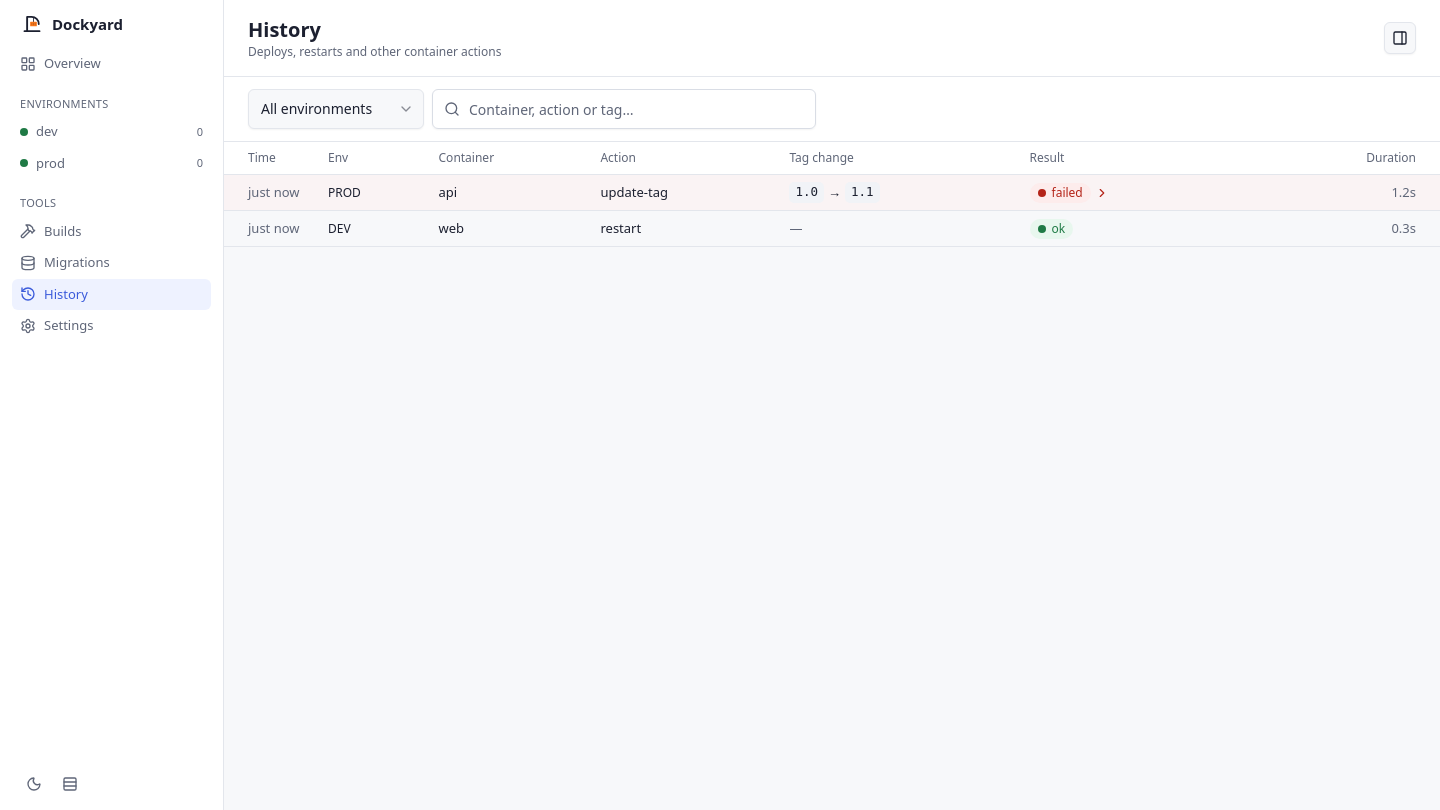
Scenario: HistoryPage › lists actions, filters by text and expands a failure
The width and height of the screenshot is (1440, 810).
Check: the number of rows is 3, box [224,142,1439,174]; [224,174,1439,210]; [224,210,1439,246]
Click the button with aria-label "failed — show error".
click(1069, 192)  # box [1030,182,1109,202]
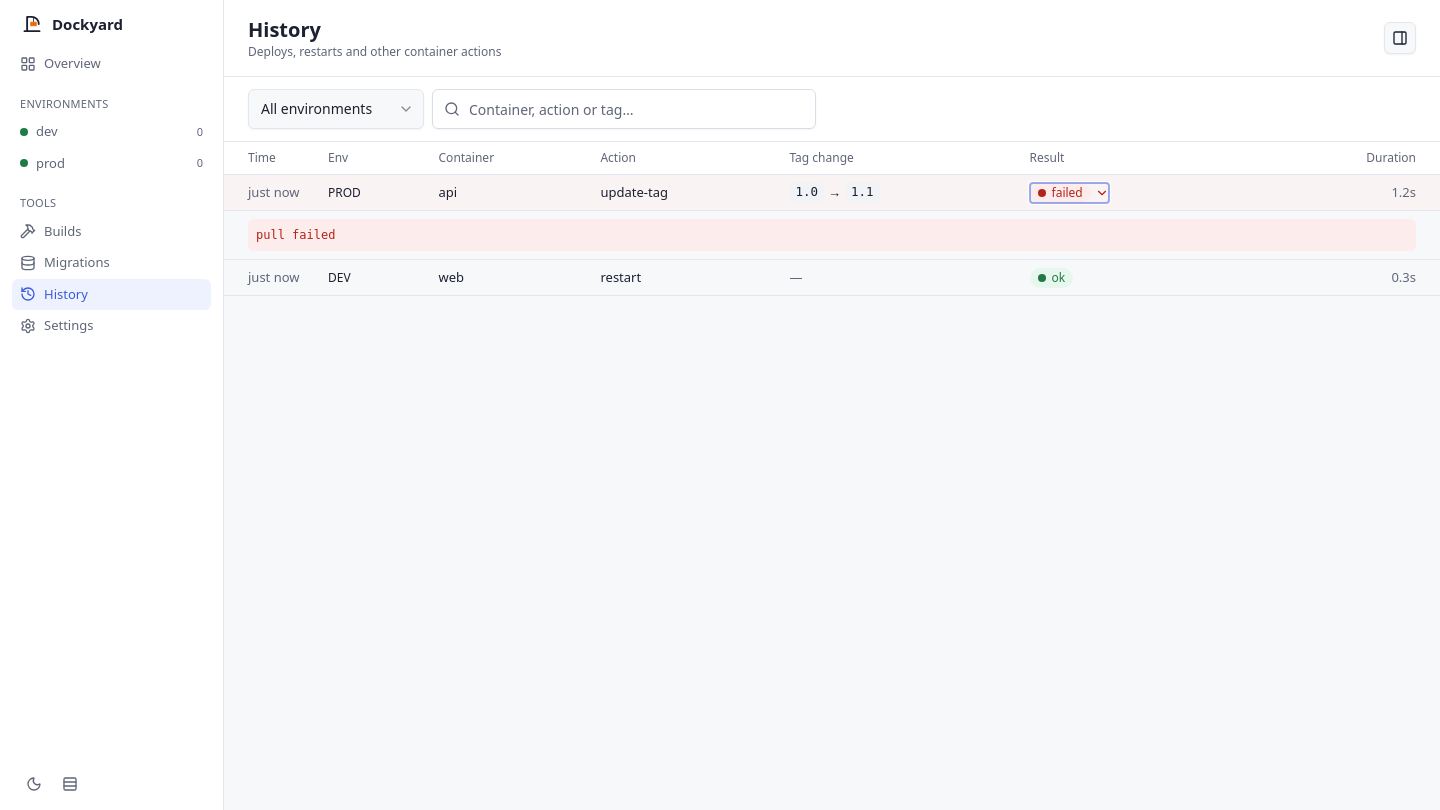
Check: the text "pull failed" is shown, box [248,219,1416,251]
Type "restart" into the search field named "Filter history".
click(624, 109); type("restart")  # box [432,89,816,129]
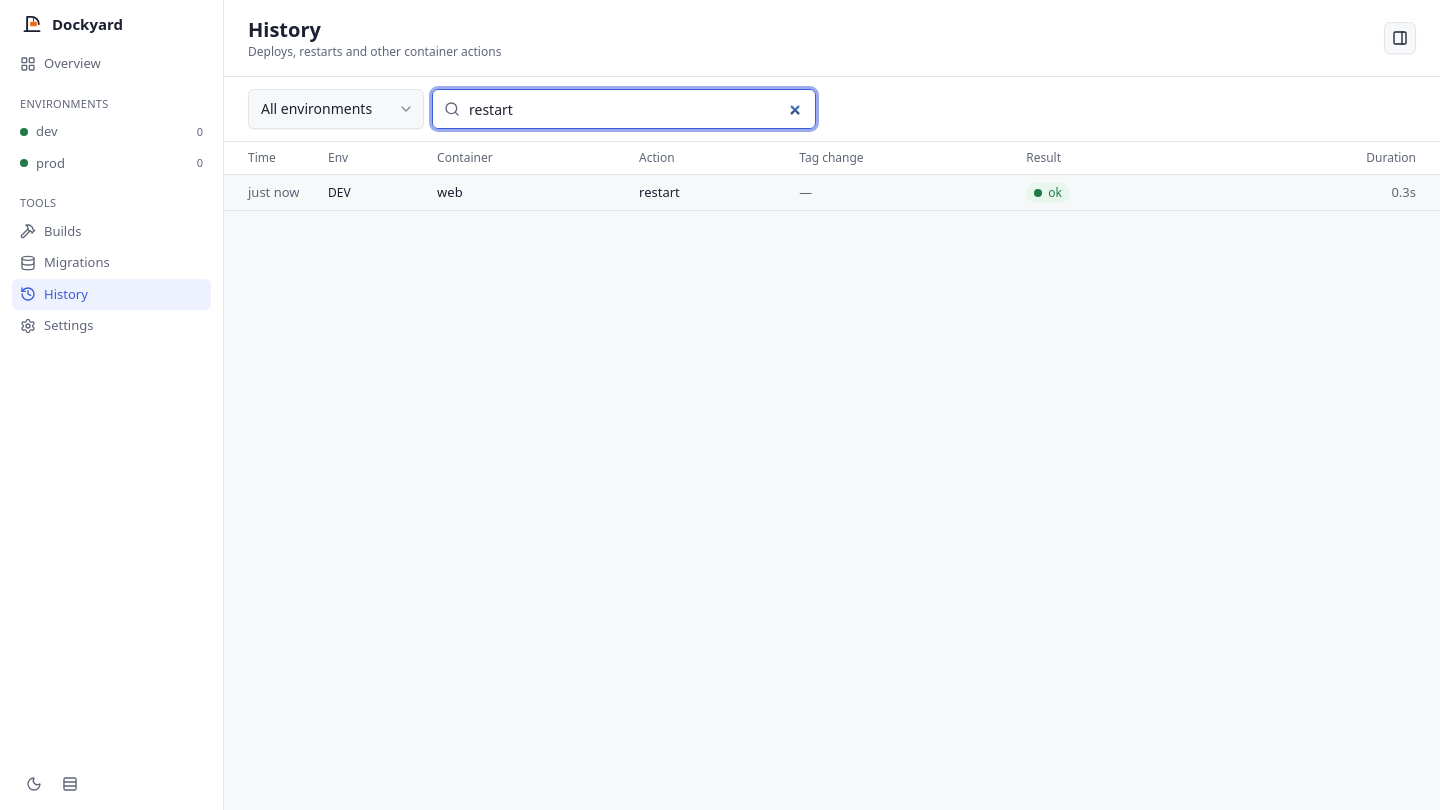
Check: the button "web" is shown, box [437,183,463,202]
Check: the number of rows is 2, box [224,142,1439,174]; [224,174,1439,210]
